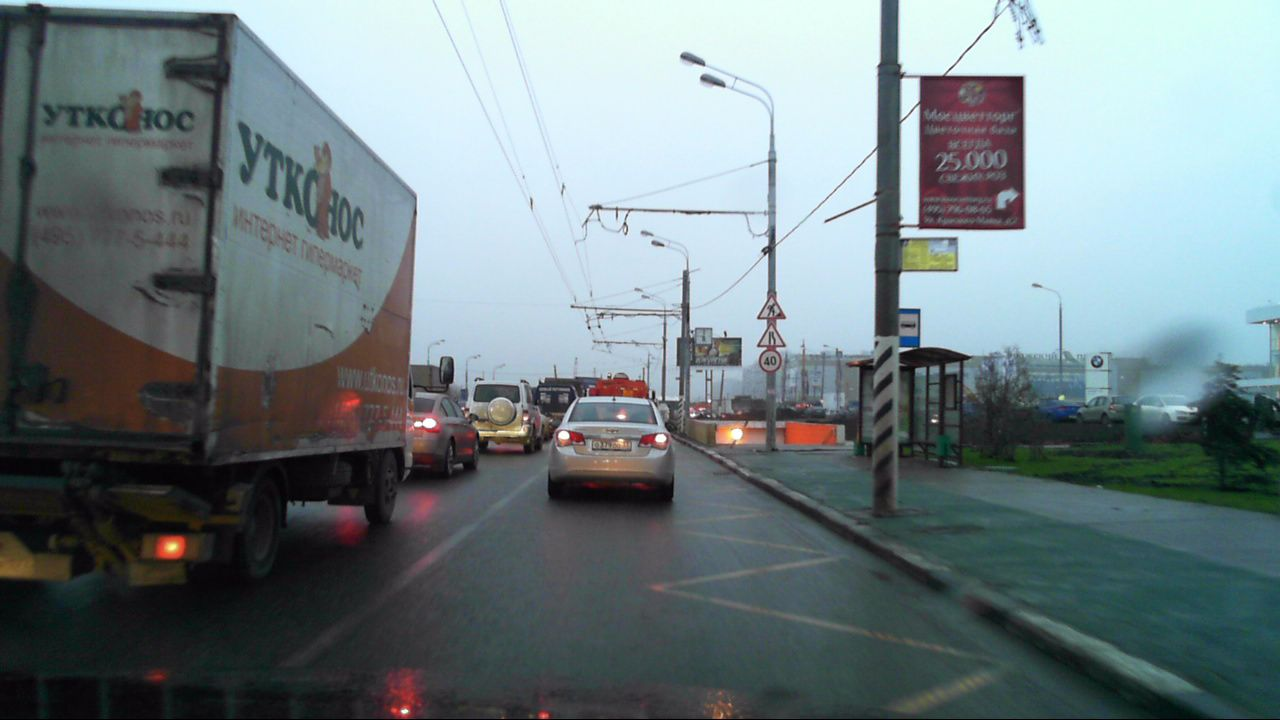speed_warning_40: (757, 348, 781, 371)
